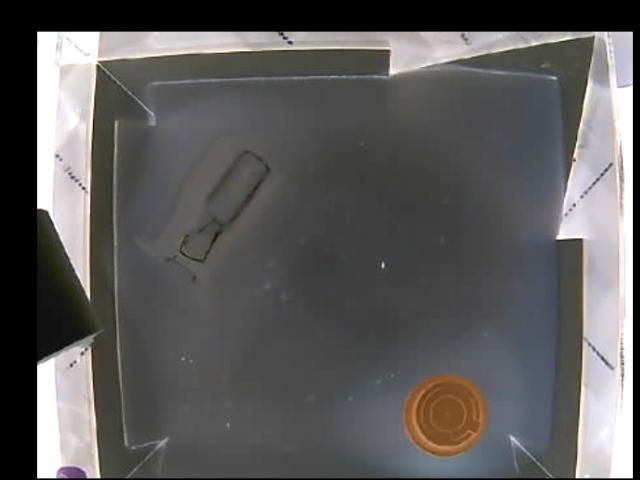Bottle: (136, 139, 277, 282)
Cup: (399, 373, 489, 455)
